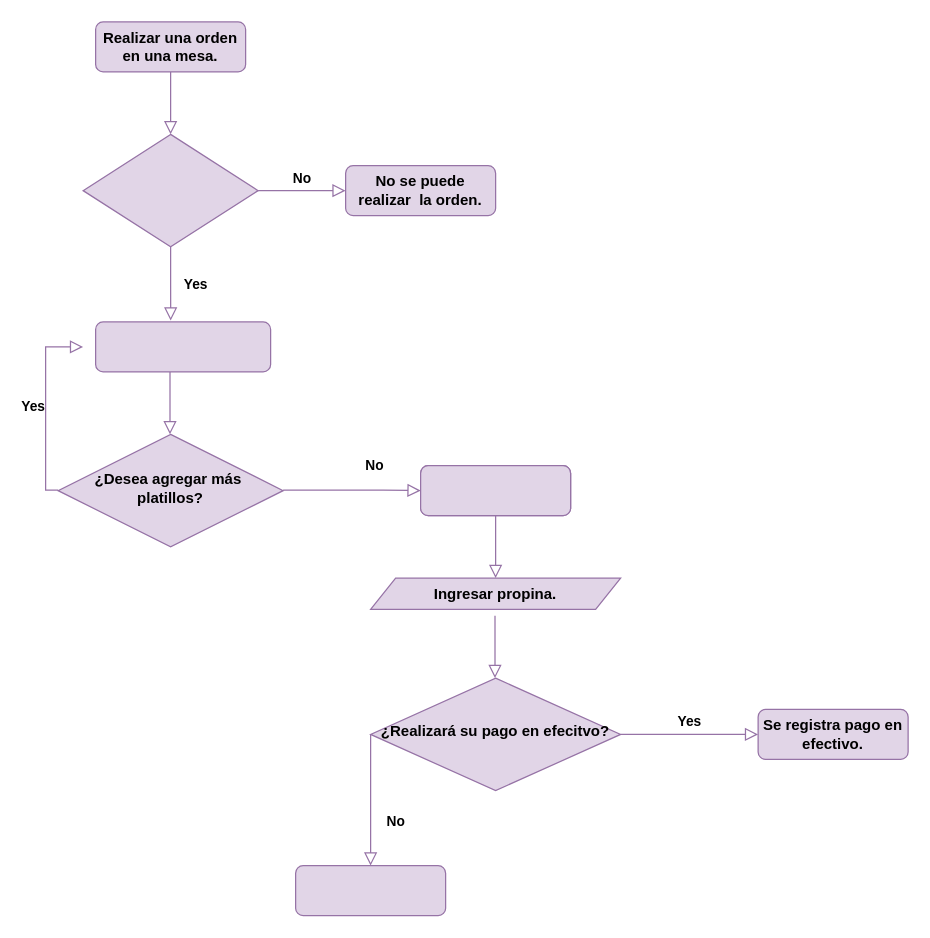
This 930x938 diagram has some shape labels left out. The centre of each missing label's shape, as x and y in pixels:
"Continuar con la orden." belongs at [182,346].
"Finalizar orden del cliente" belongs at [495,490].
"Se registra pago en tarjeta" belongs at [370,890].
"¿La mesa está disponible?" belongs at [170,190].
